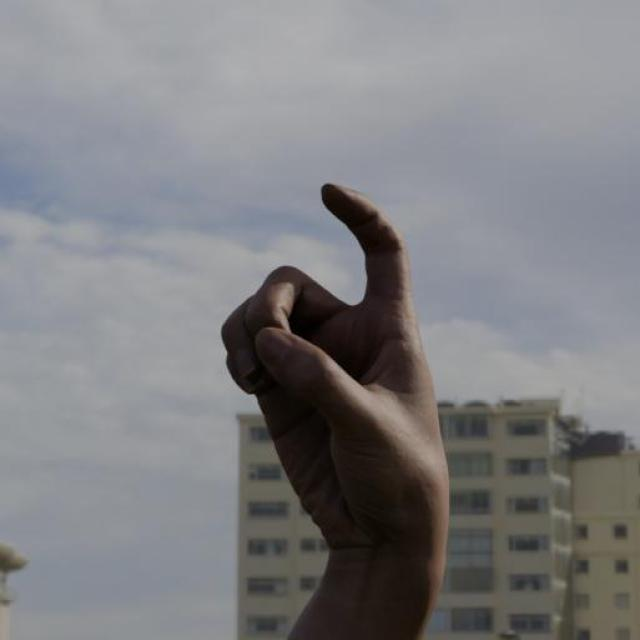X: (215, 180, 456, 560)
